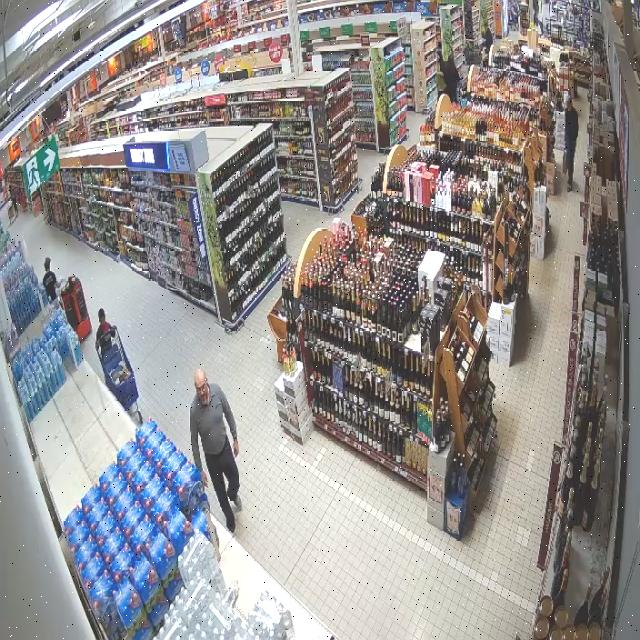hands: (233, 438, 238, 457), (202, 470, 207, 487)
person: (190, 369, 241, 532), (95, 308, 110, 353)
